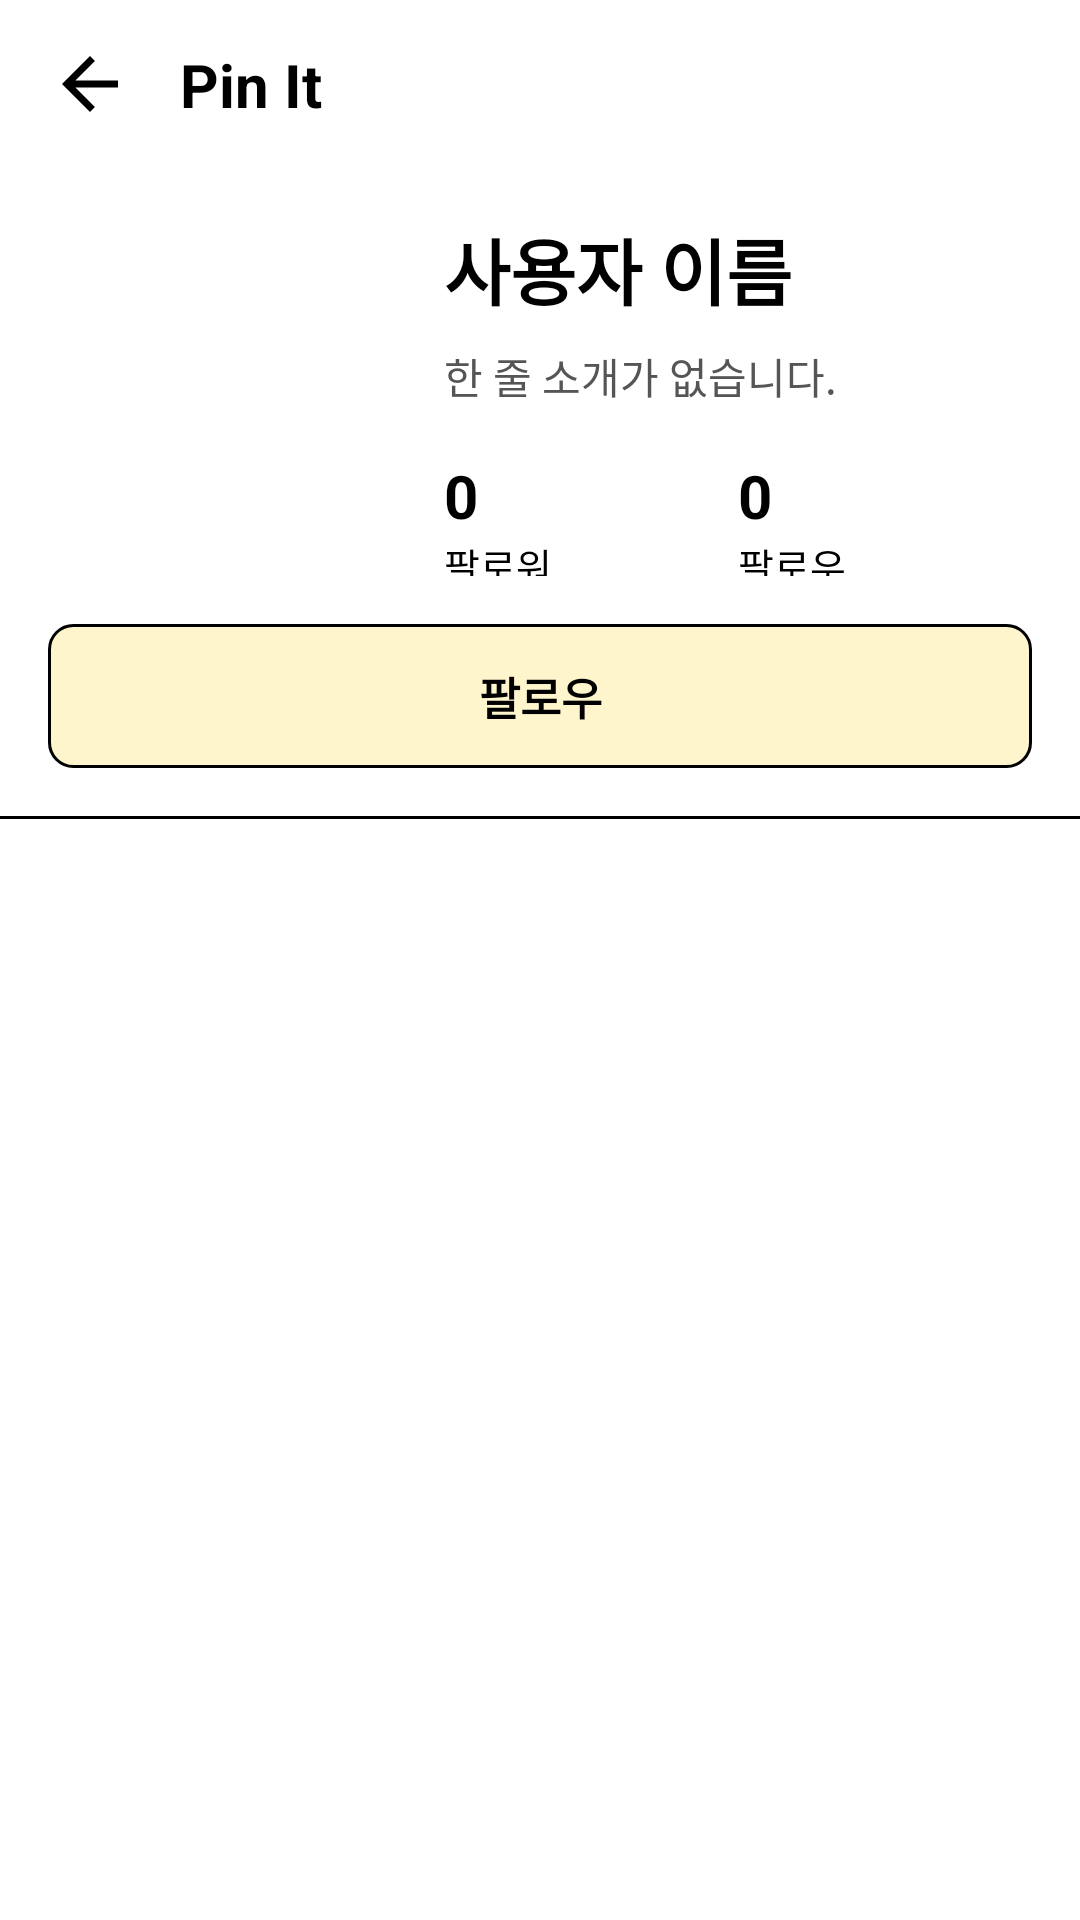

Icon click points for this 1080w x 1920h phone screenshot, format (x=x, y=y):
arrow back: (x=90, y=84)
